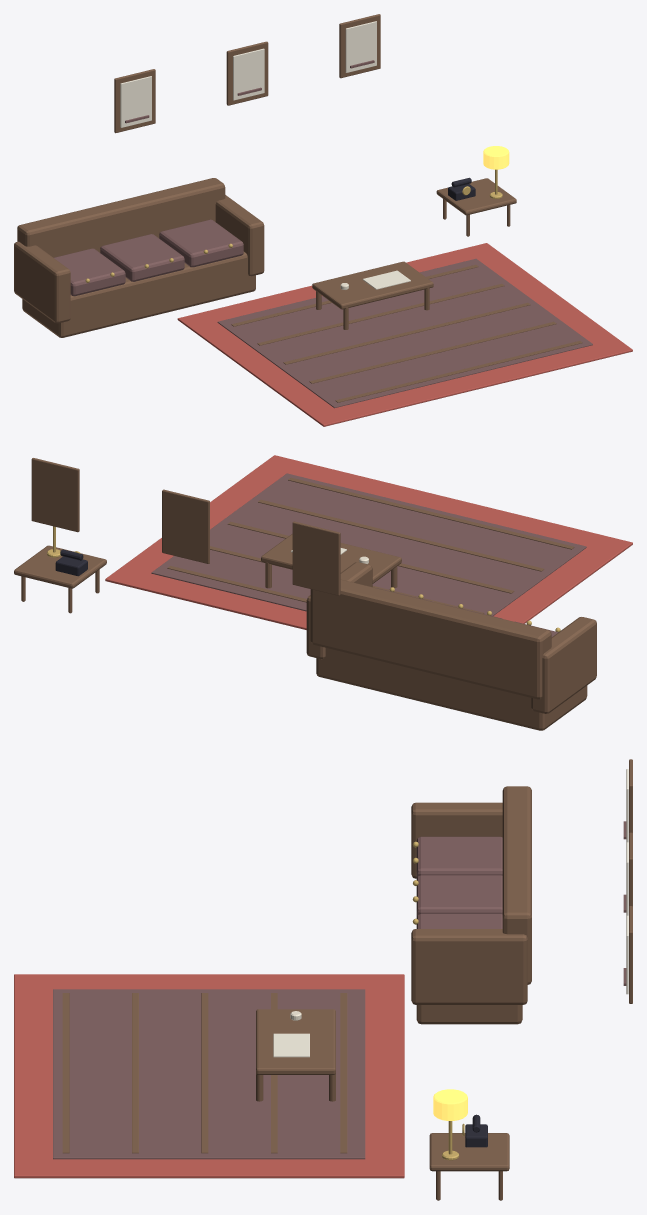
File: living-room.glb
The picture shows the model from 3 angles, top to bottom: view 1: azimuth 30°, elevation 25°; view 2: azimuth 150°, elevation 25°; view 3: azimuth 270°, elevation 25°; orthographic projection. The views are drawn at different scales.
Parts seen in each view (by area): view 1: burgundy rug inset pattern, burgundy rug field, tufted sofa high back, tufted sofa base, sofa left rounded arm, rectangular coffee table slab, sofa individual cushion 2, sofa individual cushion 1, sofa right rounded arm, sofa individual cushion 0, sepia wall photo print 1, sepia wall photo print 2 (+10 smaller); view 2: burgundy rug inset pattern, tufted sofa high back, burgundy rug field, tufted sofa base, sofa left rounded arm, sepia wall photo frame 0, sepia wall photo frame 2, sepia wall photo frame 1, rectangular coffee table slab, side table round top proxy, rug muted stripe 4, rug muted stripe 3 (+5 smaller); view 3: burgundy rug inset pattern, burgundy rug field, sofa right rounded arm, tufted sofa high back, rectangular coffee table slab, sofa individual cushion 0, sofa left rounded arm, sofa individual cushion 1, side table round top proxy, tufted sofa base, sofa individual cushion 2, rug muted stripe 0 (+6 smaller).
Boxes of the visible parts, x1=… form: burgundy rug inset pattern: x1=217, y1=258, x2=592, y2=408; burgundy rug field: x1=177, y1=243, x2=632, y2=426; tufted sofa high back: x1=17, y1=178, x2=225, y2=257; tufted sofa base: x1=22, y1=251, x2=255, y2=337; sofa left rounded arm: x1=14, y1=241, x2=70, y2=323; rectangular coffee table slab: x1=312, y1=261, x2=433, y2=309; sofa individual cushion 2: x1=159, y1=219, x2=243, y2=267; sofa individual cushion 1: x1=100, y1=234, x2=184, y2=281; sofa right rounded arm: x1=215, y1=195, x2=264, y2=276; sofa individual cushion 0: x1=54, y1=248, x2=125, y2=296; sepia wall photo print 1: x1=233, y1=48, x2=264, y2=100; sepia wall photo print 2: x1=345, y1=21, x2=376, y2=72; burgundy rug inset pattern: x1=151, y1=473, x2=586, y2=615; tufted sofa high back: x1=310, y1=579, x2=551, y2=699; burgundy rug field: x1=105, y1=455, x2=632, y2=629; tufted sofa base: x1=316, y1=648, x2=587, y2=730; sofa left rounded arm: x1=531, y1=617, x2=596, y2=713; sepia wall photo frame 0: x1=292, y1=521, x2=340, y2=595; sepia wall photo frame 2: x1=31, y1=458, x2=79, y2=532; sepia wall photo frame 1: x1=162, y1=489, x2=209, y2=563; rectangular coffee table slab: x1=261, y1=534, x2=401, y2=583; side table round top proxy: x1=14, y1=545, x2=106, y2=588; rug muted stripe 4: x1=288, y1=477, x2=574, y2=549; rug muted stripe 3: x1=258, y1=499, x2=544, y2=571; burgundy rug inset pattern: x1=53, y1=989, x2=365, y2=1159; burgundy rug field: x1=14, y1=974, x2=404, y2=1178; sofa right rounded arm: x1=411, y1=929, x2=527, y2=1004; tufted sofa high back: x1=502, y1=786, x2=531, y2=984; rectangular coffee table slab: x1=256, y1=1009, x2=335, y2=1074; sofa individual cushion 0: x1=416, y1=836, x2=502, y2=878; sofa left rounded arm: x1=411, y1=802, x2=502, y2=878; sofa individual cushion 1: x1=416, y1=875, x2=502, y2=917; side table round top proxy: x1=429, y1=1133, x2=509, y2=1171; tufted sofa base: x1=416, y1=1005, x2=522, y2=1024; sofa individual cushion 2: x1=416, y1=913, x2=502, y2=928; rug muted stripe 0: x1=340, y1=993, x2=347, y2=1153.
Size of the model in its own units: 8.32 by 2.95 by 7.13.
